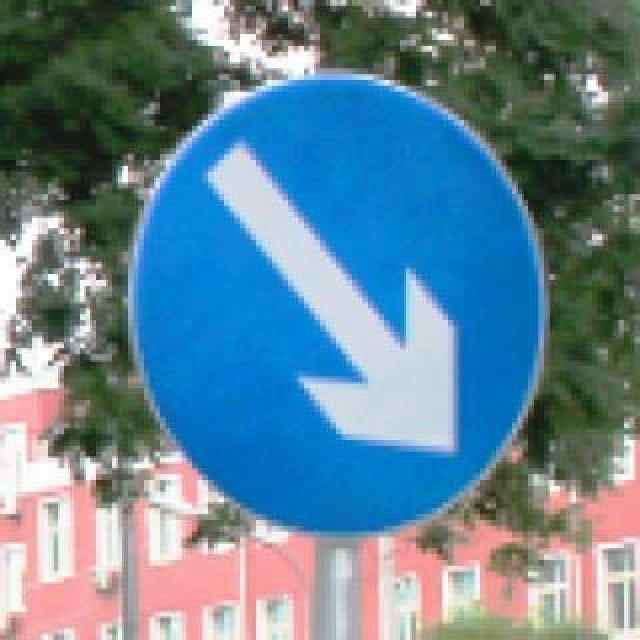keep right: (124, 64, 540, 538)
